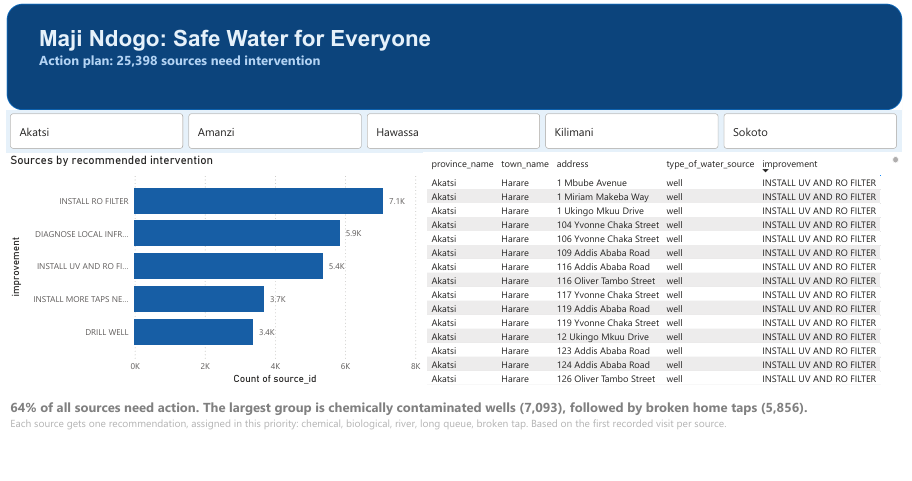

What the dashboard file says about the page in this screenshot:
{"tool":"powerbi","page":{"name":"Action plan","canvas":[1280,720],"ordinal":4},"visuals":[{"type":"shape","box":[0,0,1280.4,152.3],"z":0},{"type":"textbox","box":[40.8,26.3,1013.8,99.7],"z":1000},{"type":"clusteredBarChart","title":"Sources by recommended intervention","fields":{"Category":["md_water_services action_plan.improvement"],"Y":["CountNonNull(md_water_services action_plan.source_id)"]},"box":[0,213,595.9,335.6],"z":2000},{"type":"advancedSlicerVisual","fields":{"Values":["md_water_services action_plan.province_name"]},"box":[0,152.2,1280,60.3],"z":3000},{"type":"tableEx","fields":{"Values":["md_water_services action_plan.province_name","md_water_services action_plan.town_name","md_water_services action_plan.address","md_water_services action_plan.type_of_water_source","md_water_services action_plan.improvement"]},"box":[595.9,213,684.1,335.6],"z":3001},{"type":"textbox","box":[0,559.3,1220.8,160.3],"z":3002}]}

Visuals, with their boxes on the page's 1280x720 design canvas (x1, y1, x2, y2). These are canvas units, not pixel positions in the 912x481 screenshot, which may show the page scaled, cropped or inside an application window:
shape: <bbox>0, 0, 1280, 152</bbox>
textbox: <bbox>41, 26, 1055, 126</bbox>
"Sources by recommended intervention" clusteredBarChart: <bbox>0, 213, 596, 549</bbox>
advancedSlicerVisual - md_water_services action_plan.province_name: <bbox>0, 152, 1280, 212</bbox>
tableEx - md_water_services action_plan.province_name x md_water_services action_plan.town_name: <bbox>596, 213, 1280, 549</bbox>
textbox: <bbox>0, 559, 1221, 720</bbox>
